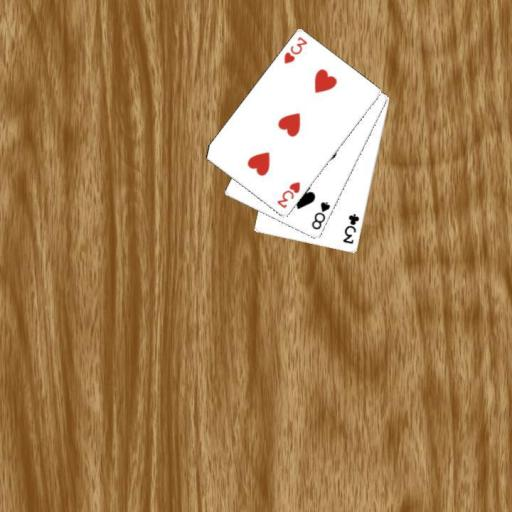3C: (340, 211, 360, 246)
3H: (281, 34, 309, 66), (274, 178, 301, 210)
8S: (308, 198, 332, 232)
